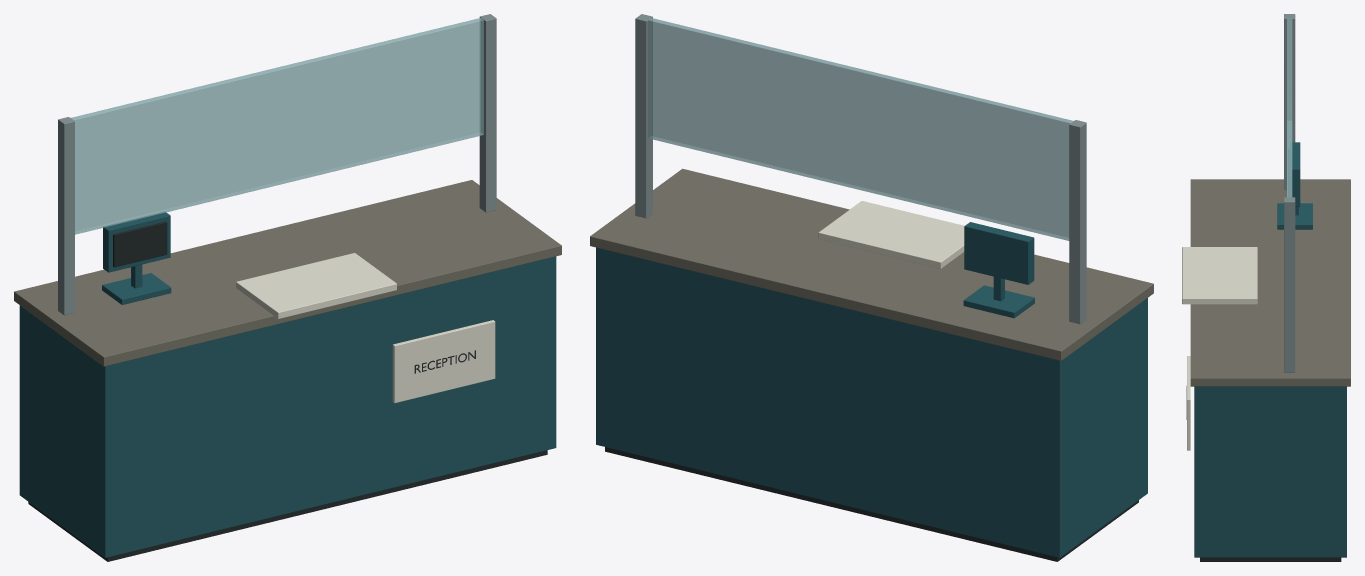
Rendered from police-station-reception.glb.
The picture shows the model from 3 angles, left to right: view 1: azimuth 30°, elevation 25°; view 2: azimuth 150°, elevation 25°; view 3: azimuth 270°, elevation 25°; orthographic projection. The views are drawn at different scales.
Parts seen in each view (by area): view 1: Counter_Body, Glazed_Partition, Worktop, Replaceable_Information_Panel, Document_Ledge, Partition_Post.001, Partition_Post, Counter_Base, Screen, Screen_Housing, Terminal_Foot; view 2: Counter_Body, Glazed_Partition, Worktop, Document_Ledge, Partition_Post, Partition_Post.001, Screen_Housing, Counter_Base, Terminal_Foot; view 3: Worktop, Counter_Body, Document_Ledge, Partition_Post.001, Partition_Post, Glazed_Partition, Counter_Base, Screen_Housing, Terminal_Foot, Replaceable_Information_Panel.
Boxes of the visible parts, x1,y1,x2,y2 form: Counter_Body: [19, 256, 556, 557]; Glazed_Partition: [71, 18, 483, 234]; Worktop: [14, 180, 561, 366]; Replaceable_Information_Panel: [392, 320, 495, 403]; Document_Ledge: [236, 253, 396, 318]; Partition_Post.001: [479, 14, 496, 212]; Partition_Post: [58, 117, 74, 315]; Counter_Base: [28, 450, 547, 561]; Screen: [113, 221, 167, 267]; Screen_Housing: [103, 212, 170, 272]; Terminal_Foot: [102, 273, 171, 304]; Counter_Body: [596, 247, 1147, 557]; Glazed_Partition: [648, 18, 1073, 240]; Worktop: [590, 168, 1153, 360]; Document_Ledge: [818, 201, 964, 268]; Partition_Post: [1069, 120, 1086, 324]; Partition_Post.001: [635, 14, 652, 218]; Screen_Housing: [964, 222, 1034, 284]; Counter_Base: [605, 447, 1138, 561]; Terminal_Foot: [963, 285, 1034, 318]; Worktop: [1190, 179, 1350, 386]; Counter_Body: [1194, 386, 1346, 557]; Document_Ledge: [1182, 247, 1257, 304]; Partition_Post.001: [1284, 197, 1295, 372]; Partition_Post: [1284, 14, 1295, 189]; Glazed_Partition: [1286, 18, 1292, 197]; Counter_Base: [1200, 557, 1341, 561]; Screen_Housing: [1290, 142, 1300, 206]; Terminal_Foot: [1277, 203, 1312, 229]; Replaceable_Information_Panel: [1187, 356, 1190, 450].
Size of the model in its own units: 2.5 by 2.1 by 0.895.
